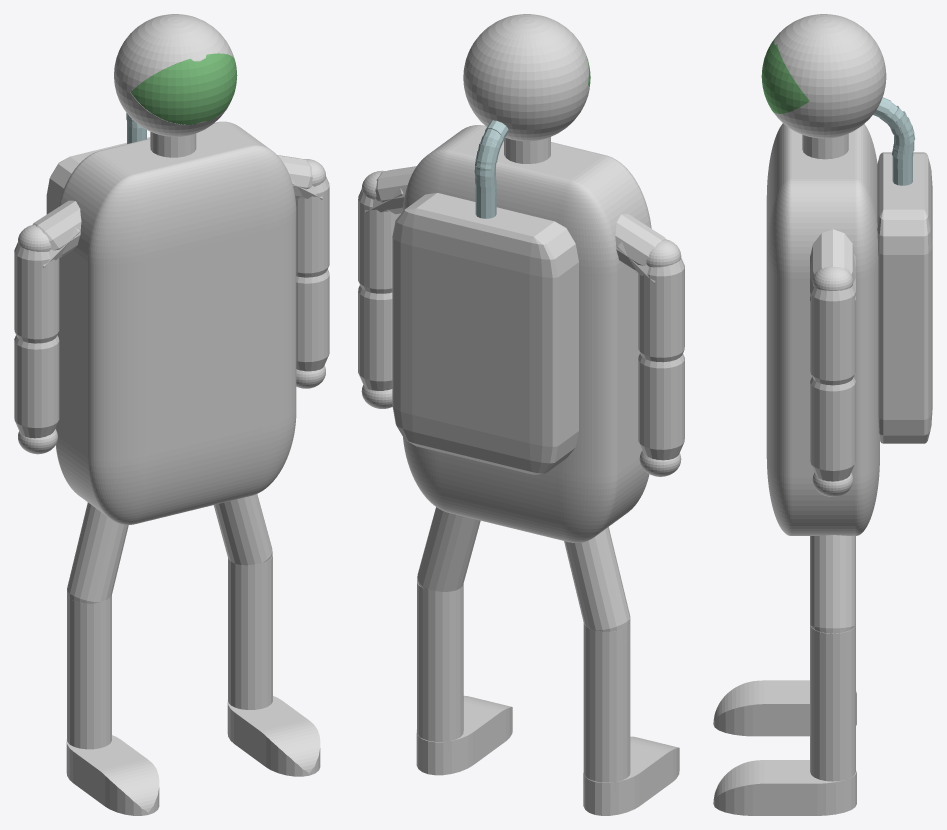
File: Player 2.glb
3 renders of one model, left to right at view 1: azimuth 30°, elevation 25°; view 2: azimuth 150°, elevation 25°; view 3: azimuth 270°, elevation 25°, orthographic. The views are drawn at different scales.
Visible parts, largest first — view 1: Mesh_Mesh_head_geo.001_lambert2SG.001; view 2: Mesh_Mesh_head_geo.001_lambert2SG.001; view 3: Mesh_Mesh_head_geo.001_lambert2SG.001.
Boxes of the visible parts, left/top/right/bottom form: Mesh_Mesh_head_geo.001_lambert2SG.001: left=14, top=14, right=329, bottom=815; Mesh_Mesh_head_geo.001_lambert2SG.001: left=358, top=14, right=684, bottom=815; Mesh_Mesh_head_geo.001_lambert2SG.001: left=713, top=14, right=932, bottom=815.
Size of the model in its own units: 71.12 by 162 by 43.07.
